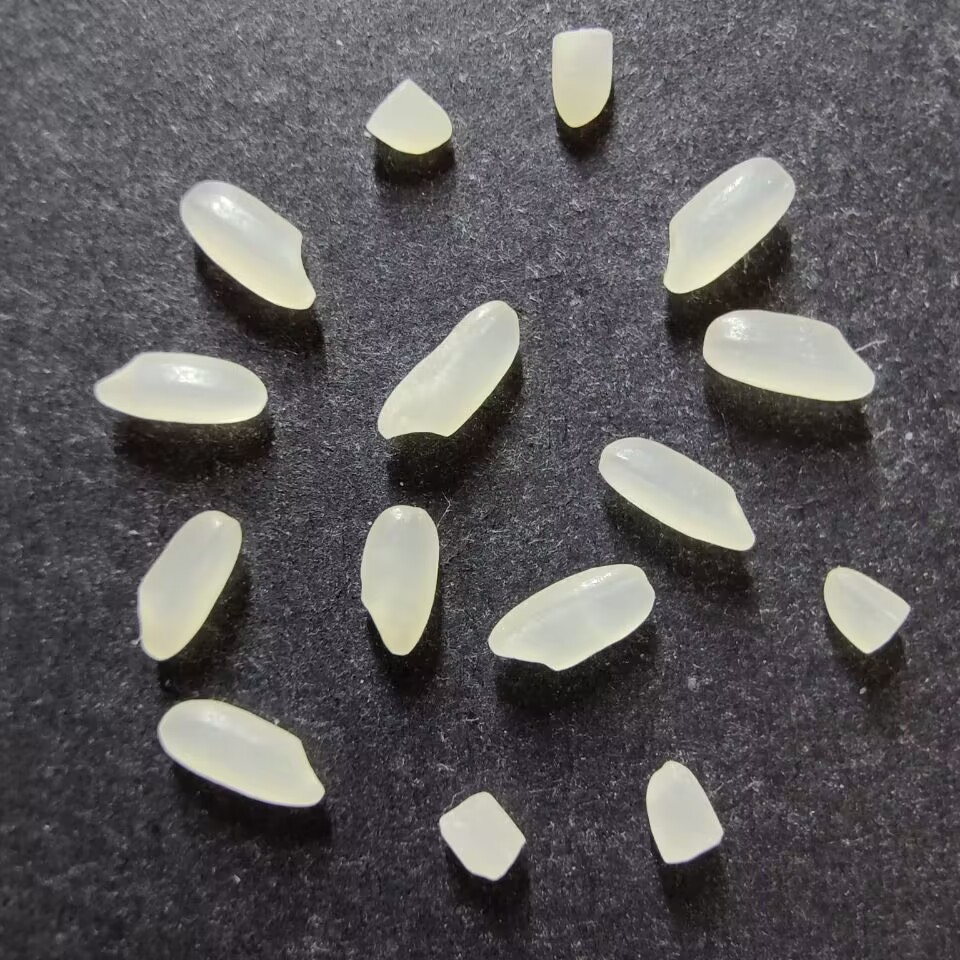broken: (644, 759, 724, 864), (438, 791, 527, 881), (823, 567, 910, 654), (365, 78, 452, 154), (550, 28, 614, 128)
rice: (376, 299, 521, 438), (662, 156, 796, 294), (597, 436, 755, 552), (487, 563, 655, 672), (179, 179, 316, 311), (158, 699, 325, 807), (701, 308, 875, 402), (137, 509, 243, 661), (93, 351, 267, 424), (358, 504, 439, 656)
